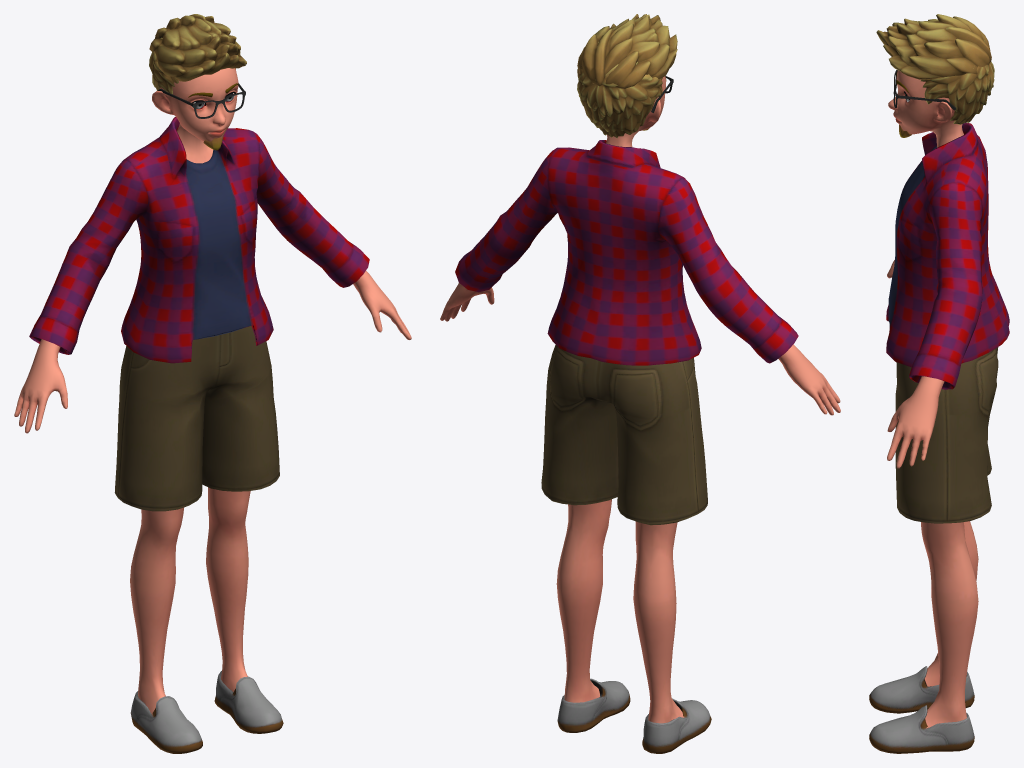
The model's file is Dave_Mesh.obj.
3 views of the same model, side by side, from view 1: azimuth 30°, elevation 25°; view 2: azimuth 150°, elevation 25°; view 3: azimuth 270°, elevation 25° (orthographic).
Parts seen in each view (by area): view 1: Dave_Mesh_0; view 2: Dave_Mesh_0; view 3: Dave_Mesh_0.
Boxes of the visible parts, bbox=[...] form: Dave_Mesh_0: bbox=[14, 14, 411, 753]; Dave_Mesh_0: bbox=[440, 14, 840, 753]; Dave_Mesh_0: bbox=[869, 14, 1009, 753].
Size of the model in its own units: 1.06 by 1.84 by 0.3308.
Materials: 1 (1 with a texture image).
